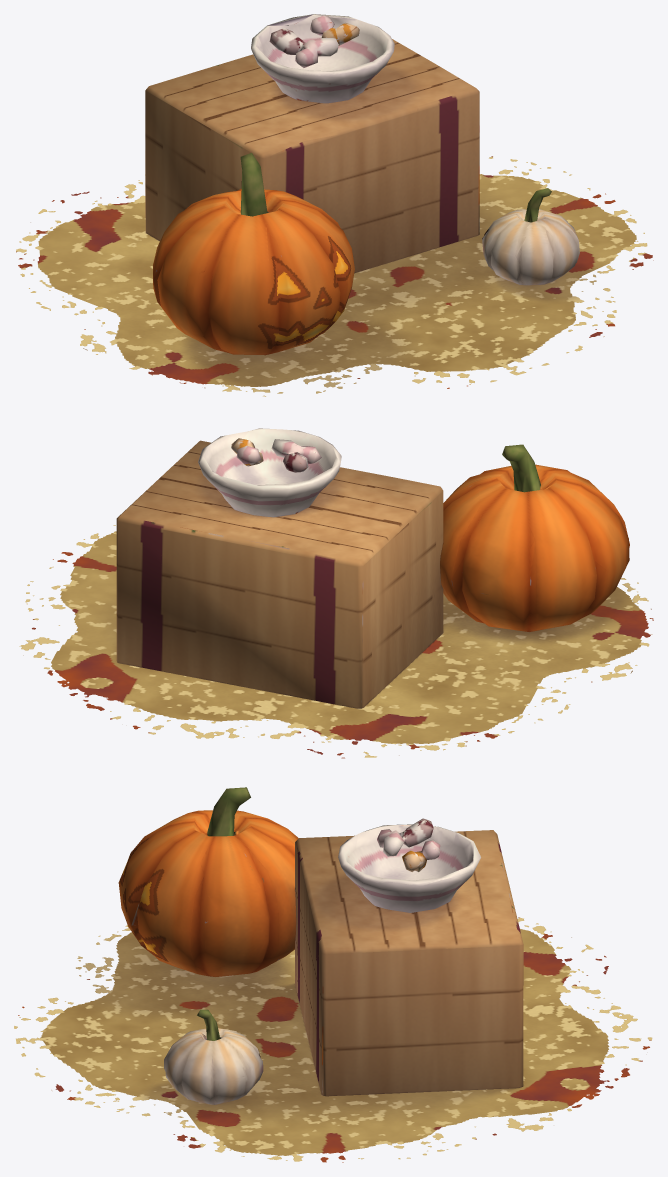
The model's file is HW_WestCorner.glb.
3 views of the same model, one above another, from view 1: azimuth 30°, elevation 25°; view 2: azimuth 150°, elevation 25°; view 3: azimuth 270°, elevation 25° (orthographic).
Parts seen in each view (by area): view 1: GroundHint, Crate, Pumpkin_Stand, CandyBowl, Gourd; view 2: Crate, GroundHint, Pumpkin_Stand, CandyBowl; view 3: GroundHint, Crate, Pumpkin_Stand, CandyBowl, Gourd.
Boxes of the visible parts, box(x1,y1,x2,y2) form: GroundHint: box(16, 156, 653, 396); Crate: box(145, 39, 479, 273); Pumpkin_Stand: box(153, 152, 354, 355); CandyBowl: box(251, 14, 394, 103); Gourd: box(482, 188, 579, 285); Crate: box(116, 440, 443, 708); GroundHint: box(19, 499, 653, 758); Pumpkin_Stand: box(440, 444, 629, 631); CandyBowl: box(198, 428, 341, 517); GroundHint: box(14, 917, 652, 1162); Crate: box(295, 830, 523, 1096); Pumpkin_Stand: box(118, 787, 298, 976); CandyBowl: box(338, 818, 480, 912); Gourd: box(164, 1009, 263, 1104).
Size of the model in its own units: 1.7 by 0.6119 by 1.7.
Materials: 2 (2 with a texture image).
